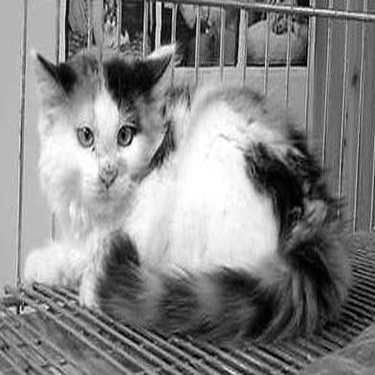cat: (24, 46, 351, 344)
